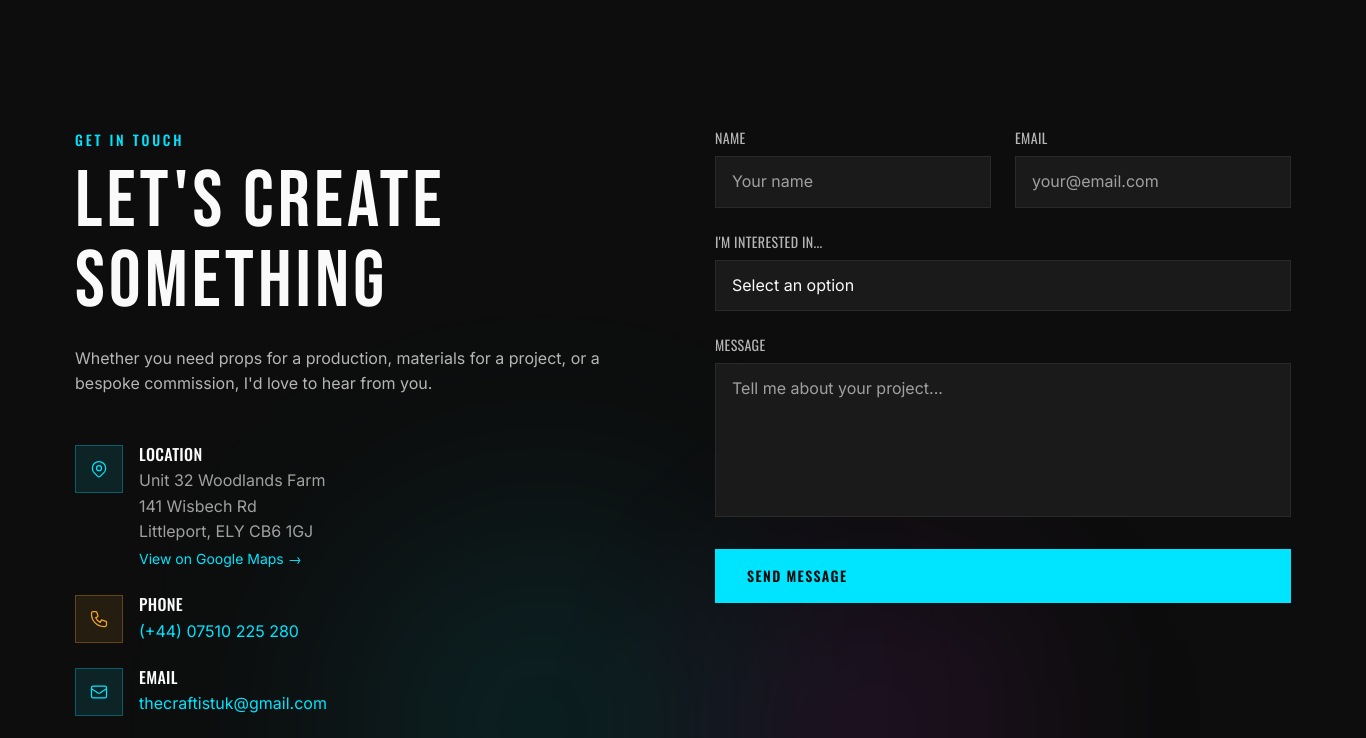
it: Contact › shows an error and does not fake success when the request fails
Type "Test User" into the field labelled "Name" at (853, 182), box 715,156 -> 991,208
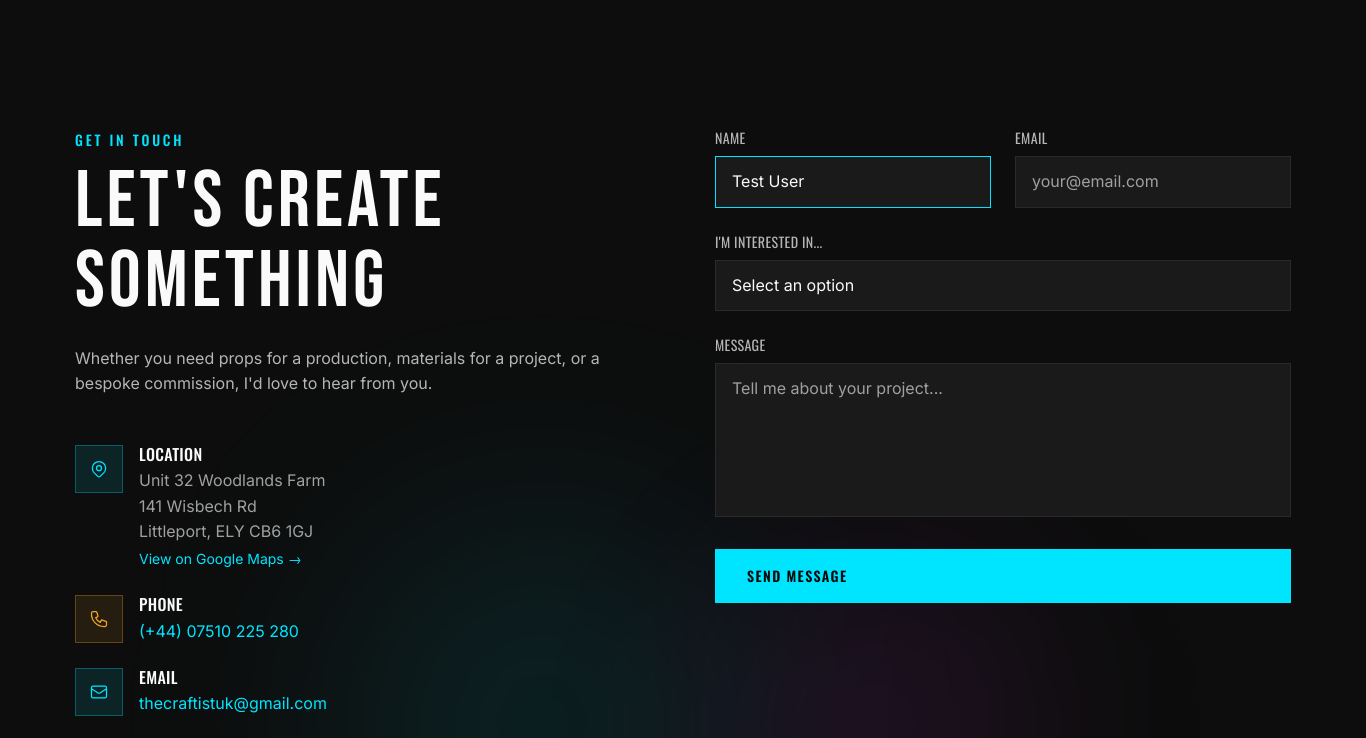
Type "test@example.com" into the field labelled "Email" at (1153, 182), box 1015,156 -> 1291,208
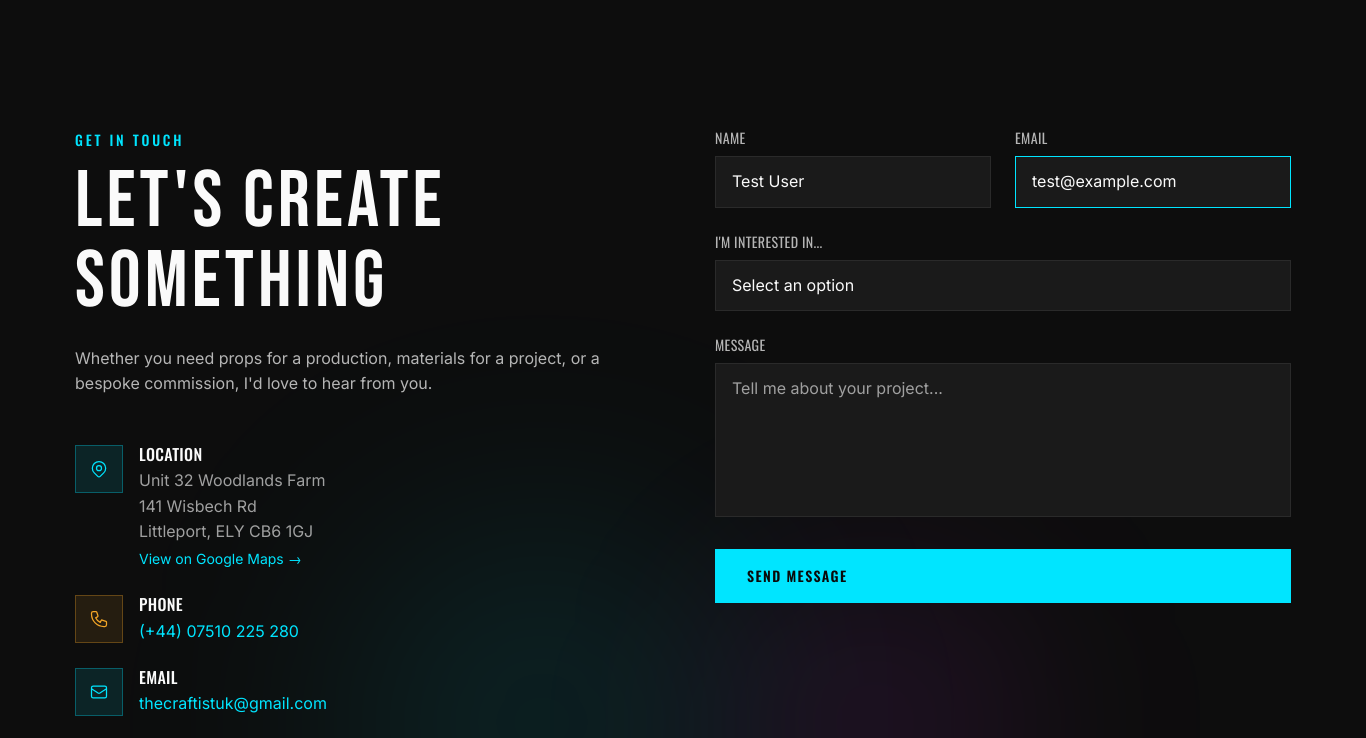
Select "Bespoke Commission" in the dropdown labelled "I'm interested in..." at (1003, 285), box 715,260 -> 1291,311
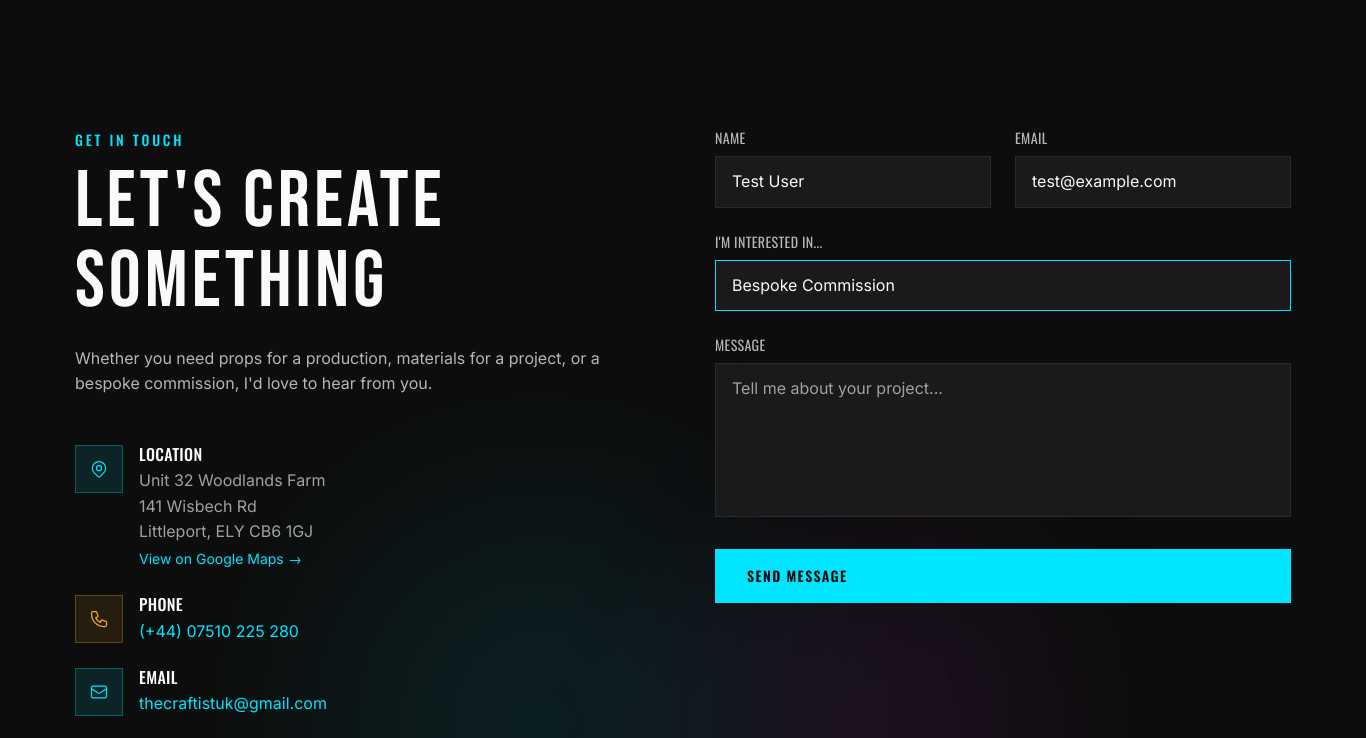
Type "Hello!" into the text box labelled "Message" at (1003, 440), box 715,363 -> 1291,517
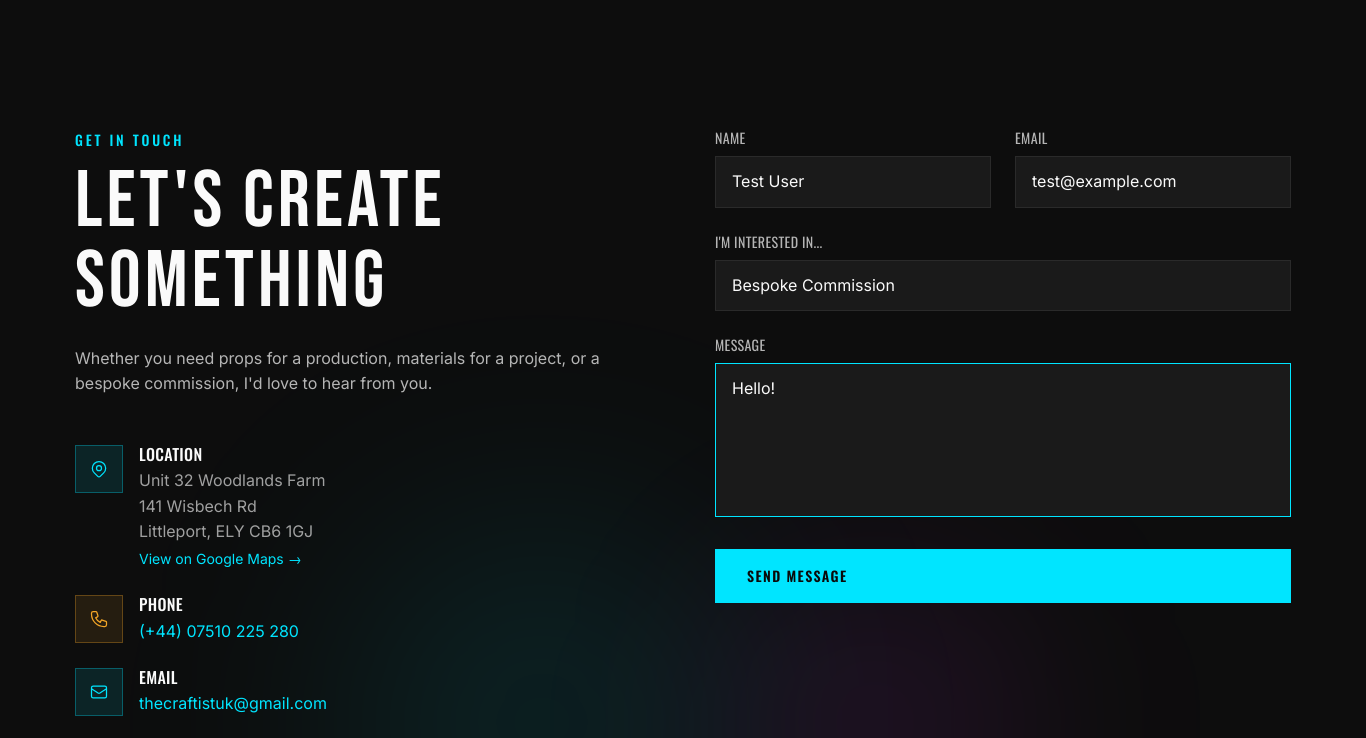
Click the button "Send Message" at (797, 575), box 715,549 -> 1291,603
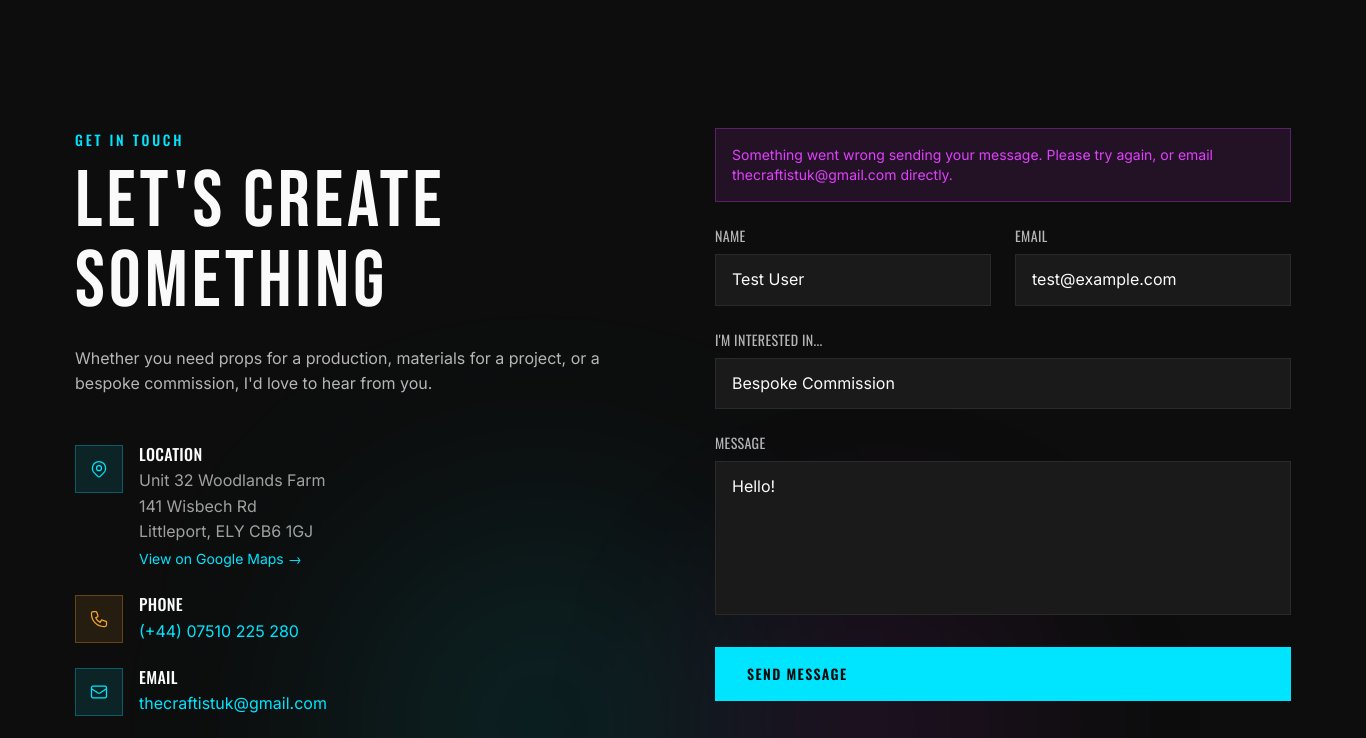
Check: the message is shown, box 715,128 -> 1291,202
